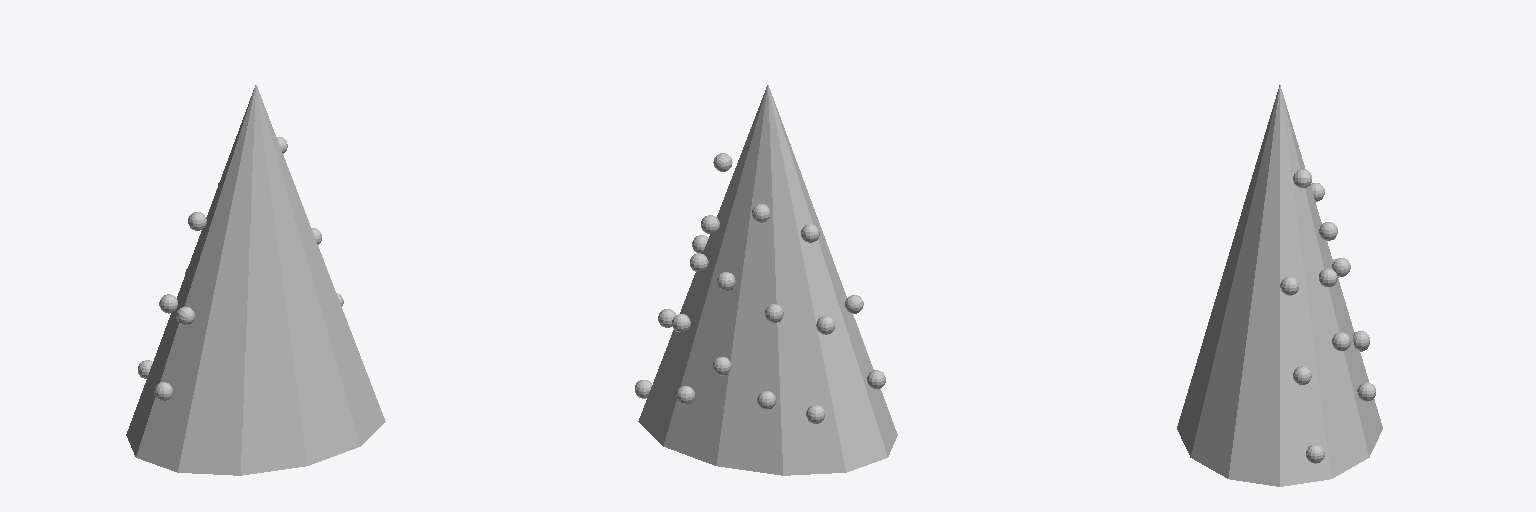
The model's file is xmastree2.obj.
3 renders of one model, left to right at view 1: azimuth 30°, elevation 25°; view 2: azimuth 150°, elevation 25°; view 3: azimuth 270°, elevation 25°, orthographic.
Visible parts, largest first — view 1: group[number redacted]; view 2: group[number redacted]; view 3: group[number redacted].
Boxes of the visible parts, x1=… form: group[number redacted]: x1=126, y1=85, x2=385, y2=475; group[number redacted]: x1=638, y1=85, x2=897, y2=475; group[number redacted]: x1=1177, y1=85, x2=1382, y2=486.
Bounding box in the file's own units: 0.43 × 0.59 × 0.32.